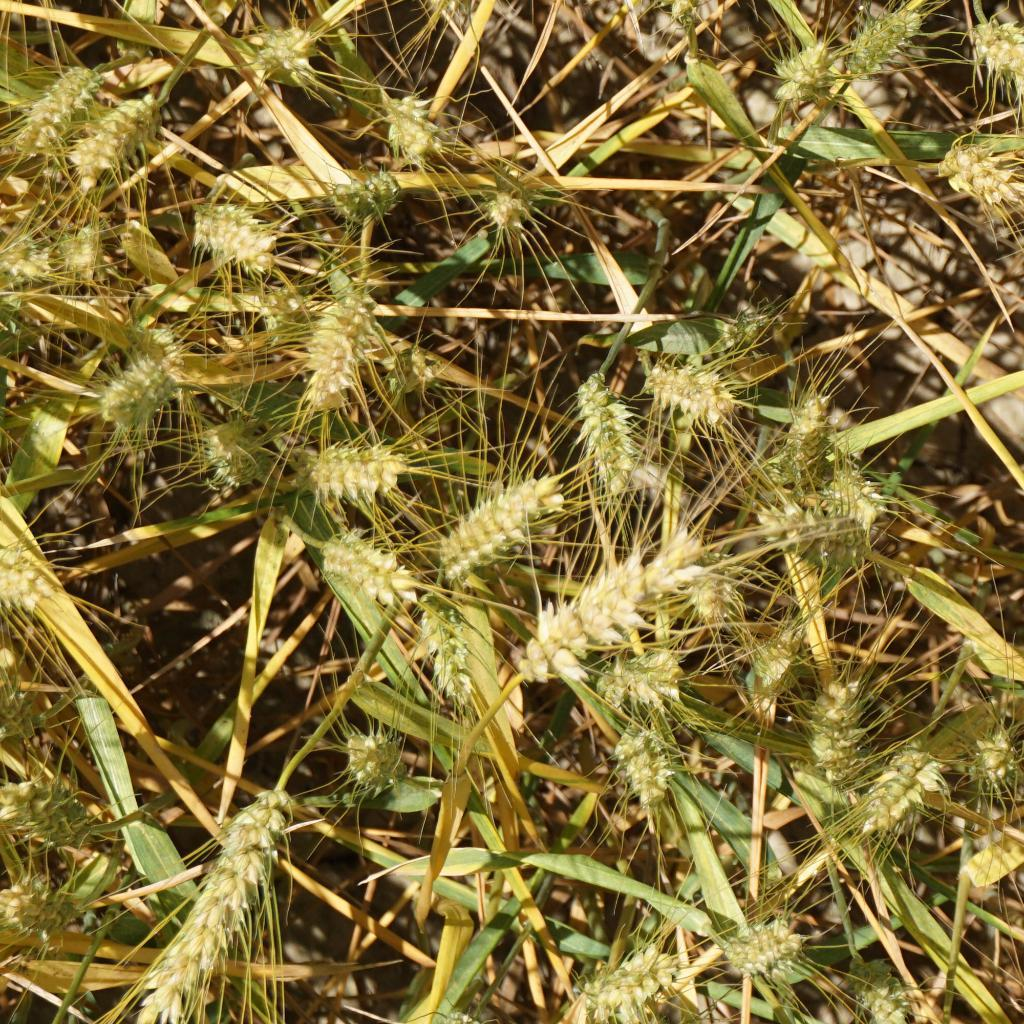0-0: (130, 774, 302, 1024), (504, 534, 694, 665), (58, 83, 171, 177), (436, 475, 550, 558), (17, 57, 108, 153), (763, 501, 881, 575), (188, 198, 287, 286), (409, 594, 478, 713), (309, 527, 417, 602), (858, 734, 937, 834), (96, 349, 183, 435), (567, 374, 635, 484), (305, 284, 367, 403), (0, 780, 99, 854), (198, 411, 279, 497), (579, 950, 669, 1024), (718, 912, 809, 985), (932, 131, 1019, 206), (612, 721, 678, 814), (0, 873, 86, 942), (640, 364, 734, 427), (301, 439, 400, 498), (804, 680, 862, 778), (342, 726, 414, 804), (778, 393, 840, 480), (477, 170, 540, 252), (846, 3, 923, 69), (608, 641, 686, 706), (736, 626, 808, 695), (680, 557, 742, 636), (251, 22, 316, 94), (968, 13, 1024, 96), (373, 84, 433, 159), (372, 344, 442, 400), (337, 168, 401, 225), (0, 550, 56, 615), (0, 657, 38, 750), (846, 957, 903, 1019), (778, 33, 828, 103), (52, 217, 105, 283), (716, 304, 782, 351), (123, 316, 186, 363), (974, 730, 1019, 790), (837, 465, 885, 521), (4, 230, 49, 280), (653, 0, 722, 28), (263, 301, 302, 345), (996, 0, 1024, 13)
